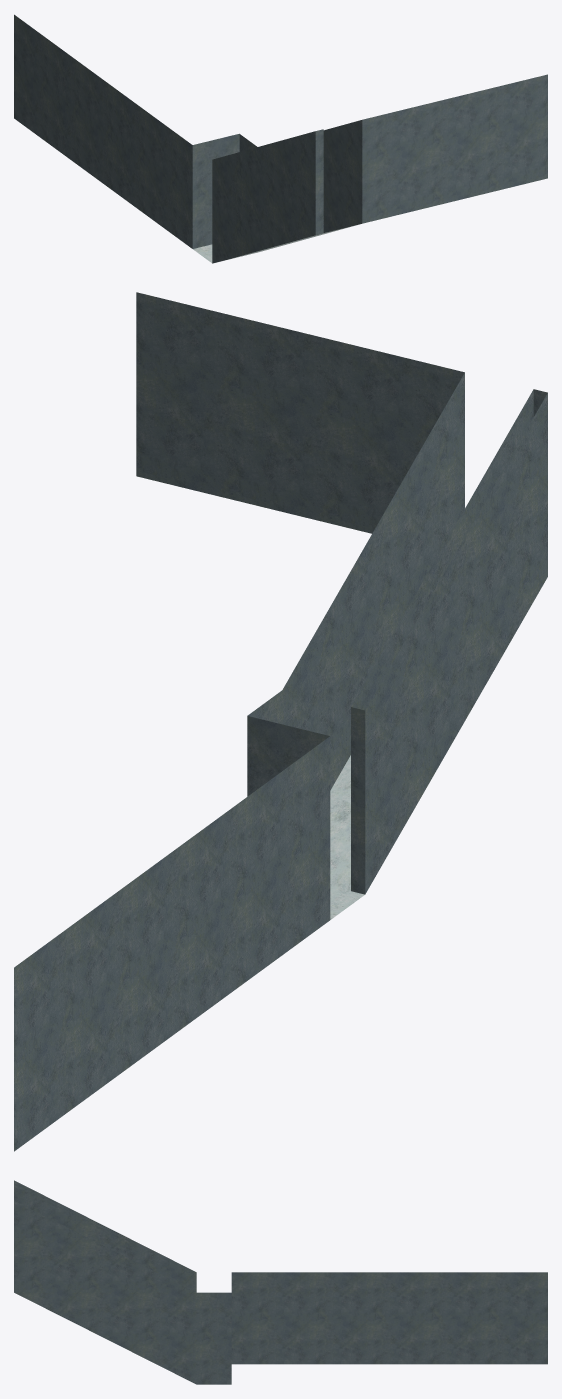
Rendered from FinalMap_Stairs_Walls.FBX.
3 renders of one model, top to bottom at view 1: azimuth 30°, elevation 25°; view 2: azimuth 150°, elevation 25°; view 3: azimuth 270°, elevation 25°, orthographic. The views are drawn at different scales.
Parts seen in each view (by area): view 1: FinalMap_Stairs_Walls; view 2: FinalMap_Stairs_Walls; view 3: FinalMap_Stairs_Walls.
Part boxes in pixels (x1,y1,x2,y2): FinalMap_Stairs_Walls: [14, 14, 547, 263]; FinalMap_Stairs_Walls: [14, 292, 547, 1151]; FinalMap_Stairs_Walls: [14, 1180, 547, 1384].
Bounding box in the file's own units: 1102 × 943 × 2478.
